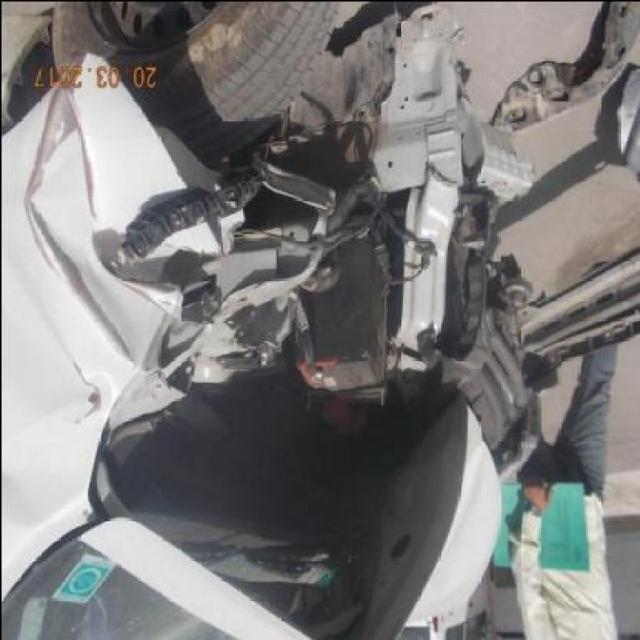damage: (11, 6, 563, 545), (99, 601, 217, 636)
